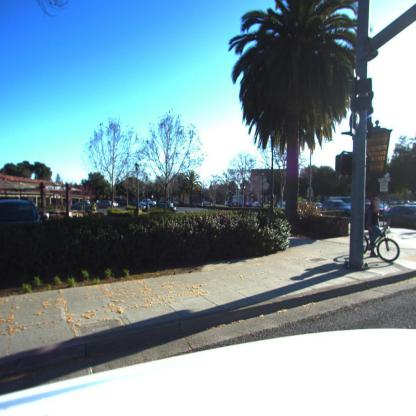bicycle: (364, 223, 400, 264)
car: (1, 198, 44, 227), (384, 204, 415, 231), (320, 197, 351, 217), (70, 199, 93, 215), (96, 199, 112, 209)
person: (364, 197, 384, 255)
